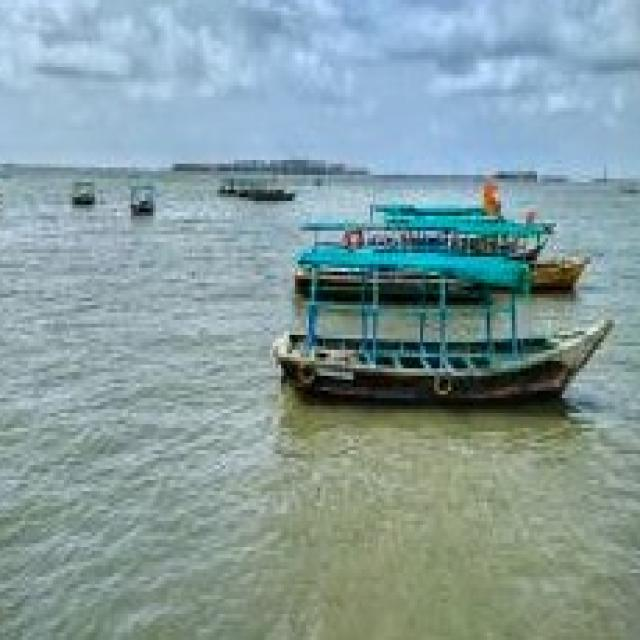fishing boat: (283, 242, 606, 416), (309, 152, 601, 293), (123, 171, 169, 238), (61, 170, 99, 228)
